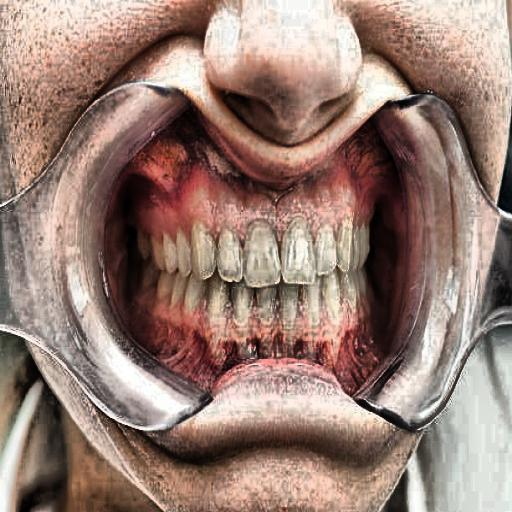Gingivitis: (130, 171, 276, 242), (279, 178, 378, 231)
